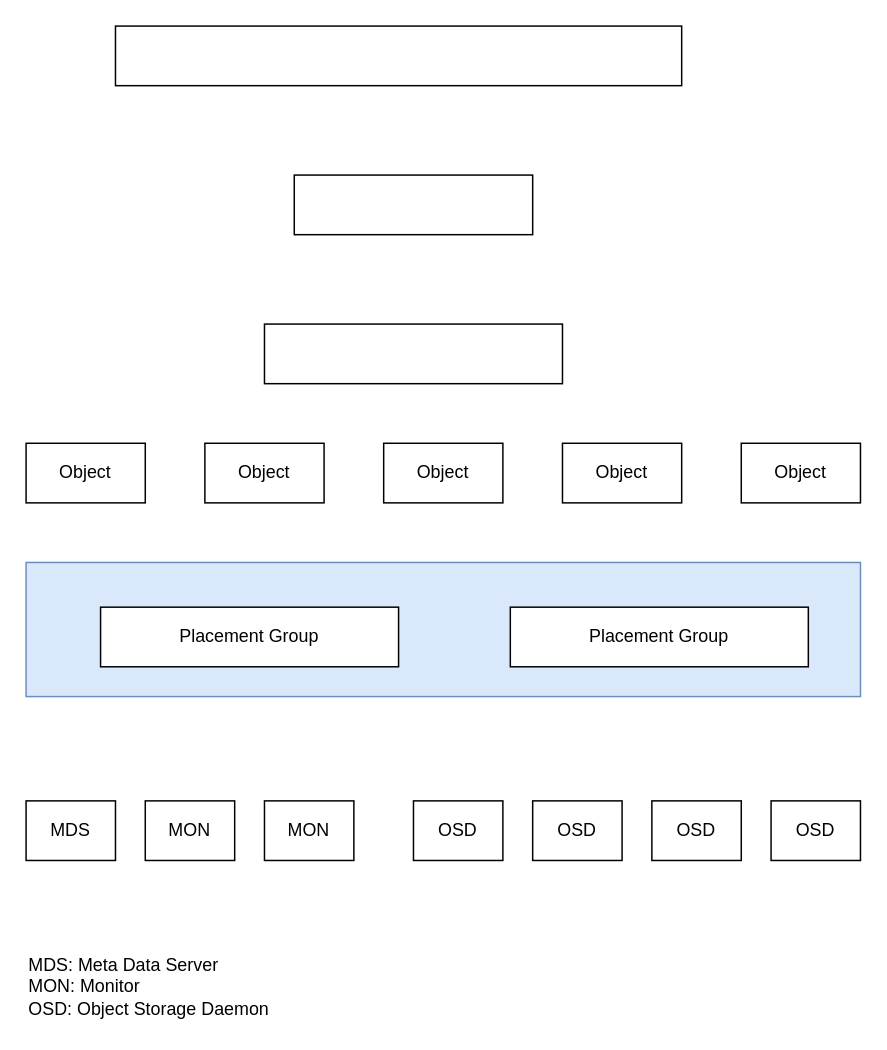
Some shapes in this 887 by 1050 pixel diagram are drawn without their labels. Each missing label, with the box of its shape:
Ceph pool: (25, 561, 860, 697)
Client: (114, 25, 682, 86)
CRUSH: (263, 323, 562, 384)
Data set: (293, 174, 533, 235)
